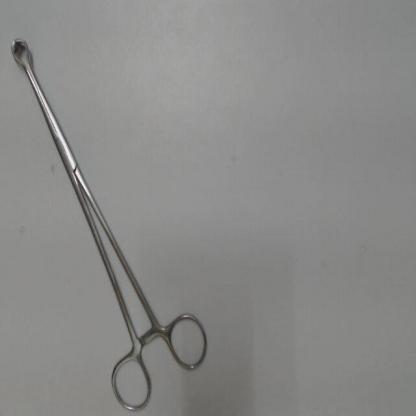8 Babcock Tissue Forceps: (6, 31, 212, 413)
